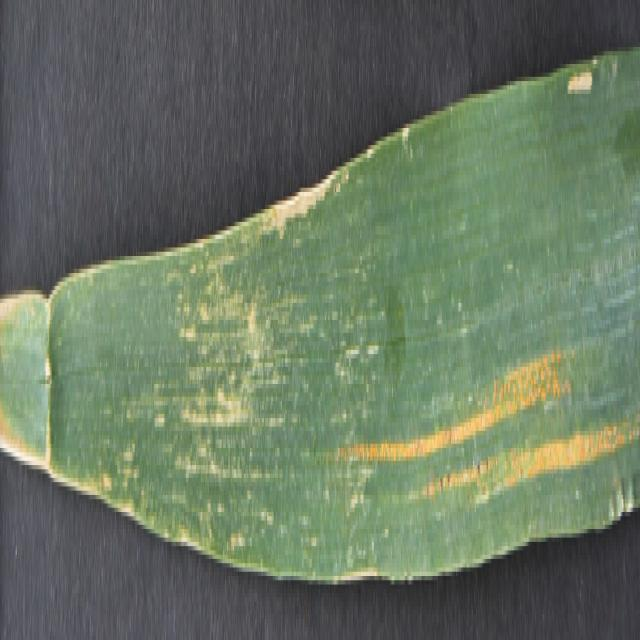leaf rust: (348, 342, 634, 516)
